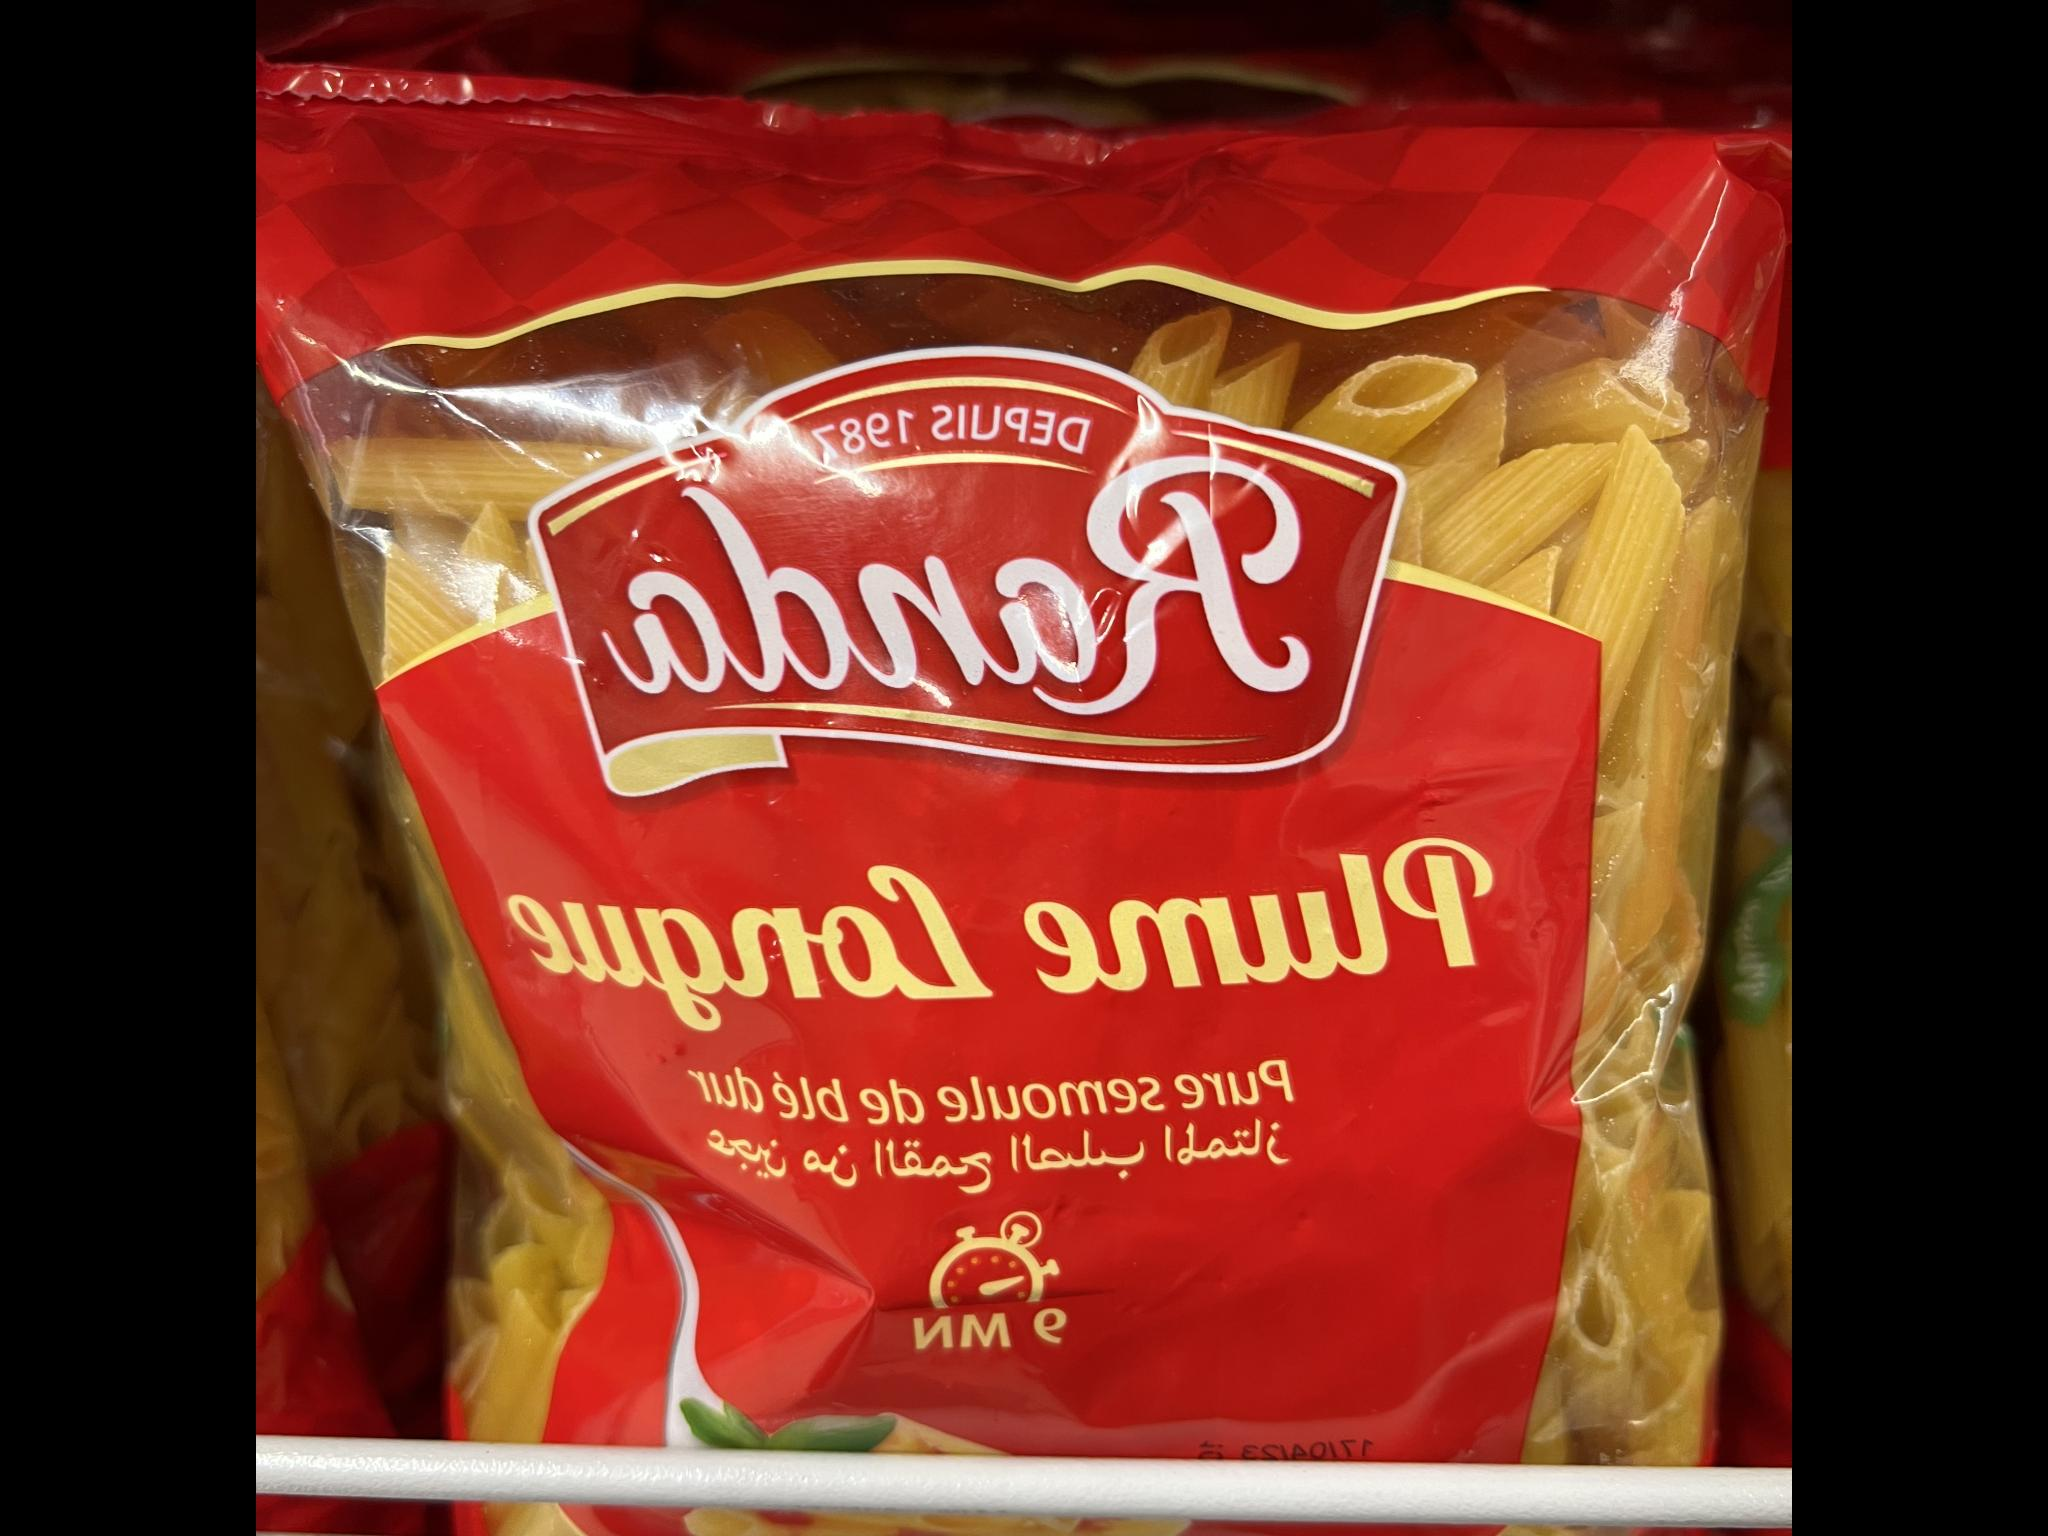plume: (266, 90, 1777, 1536)
